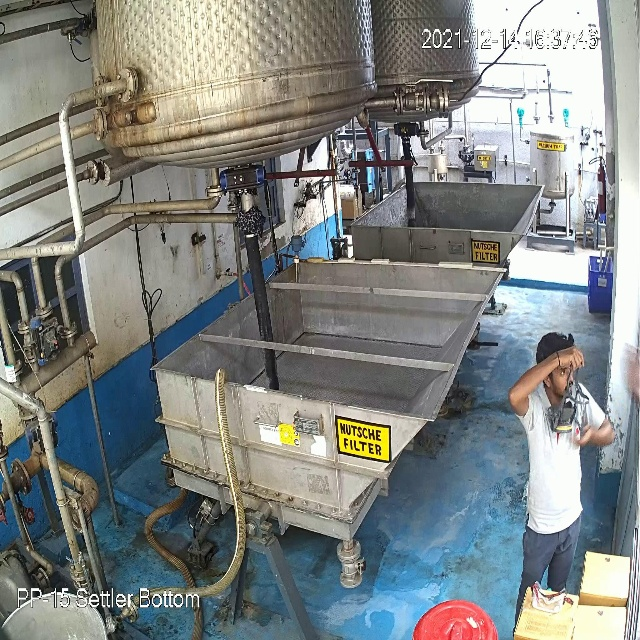Sin_gafas: (538, 360, 575, 381)
Sin_mascara: (546, 373, 579, 400)
